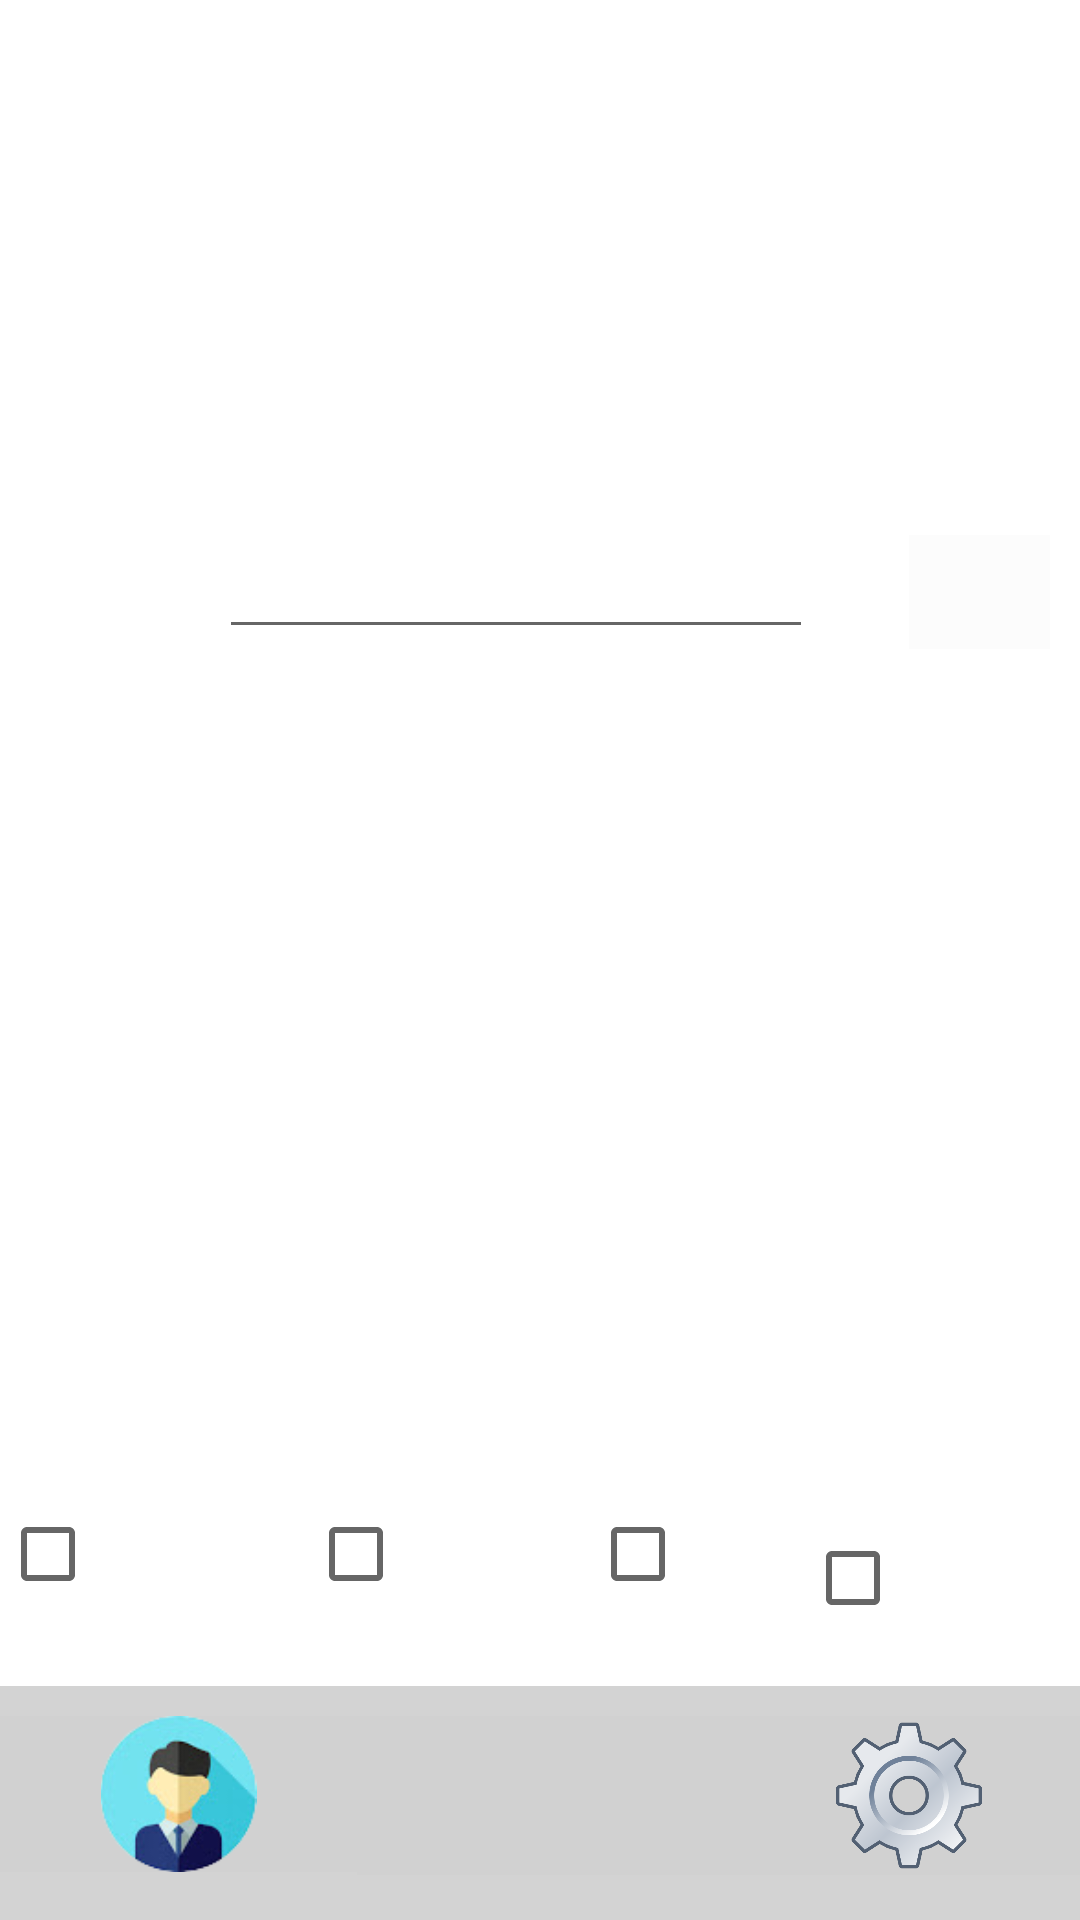

Named icons in this screenshot (1080w x 1920h) and their bounding boxes, bbox(x1, y1, x2, y2):
Account: bbox(101, 1716, 257, 1872)
Settings: bbox(836, 1722, 982, 1869)
